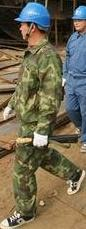boots: (0, 209, 35, 229), (1, 0, 1, 1)
gloves: (33, 130, 49, 147), (61, 76, 66, 86)
hard-hat: (14, 1, 51, 28)
ppe-suit: (2, 37, 84, 215)
